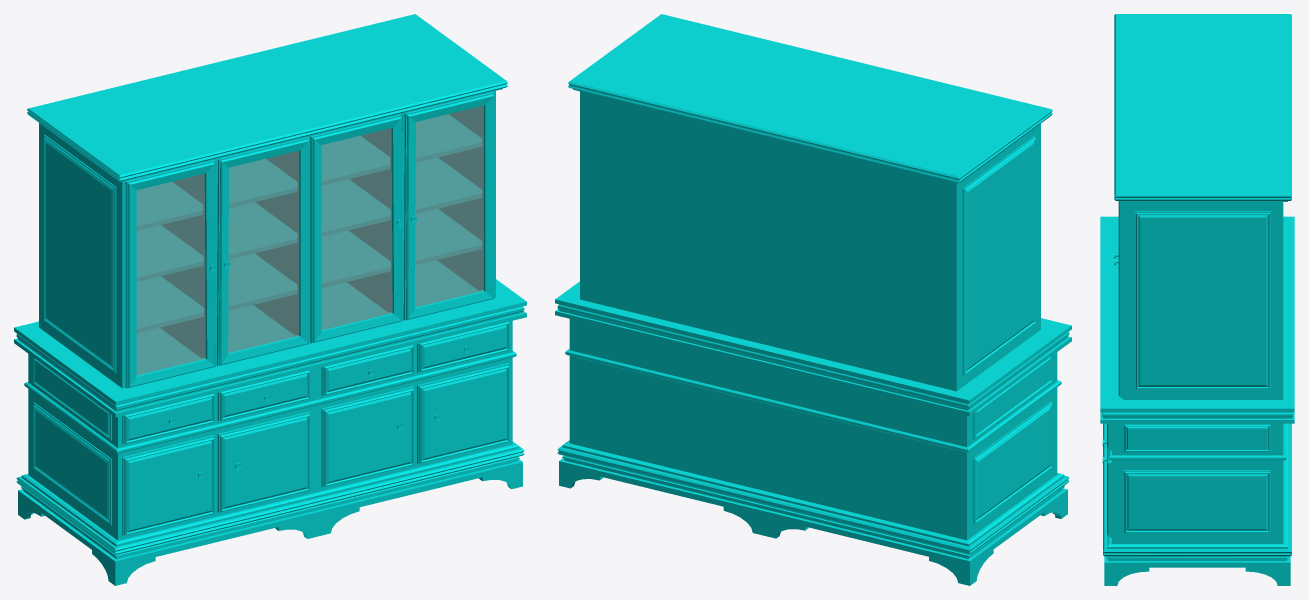
Rendered from cupboard.fbx.
3 renders of one model, left to right at view 1: azimuth 30°, elevation 25°; view 2: azimuth 150°, elevation 25°; view 3: azimuth 270°, elevation 25°, orthographic. The views are drawn at different scales.
Visible parts, largest first — view 1: cupboardBase, cupboardDoor2, cupboardDoor3, cupboardDoor4, cupboardDoor1; view 2: cupboardBase; view 3: cupboardBase, cupboardDoor4.
Part boxes in pixels (bbox=[...]): cupboardBase: bbox=[14, 14, 526, 585]; cupboardDoor2: bbox=[217, 137, 309, 366]; cupboardDoor3: bbox=[310, 114, 403, 343]; cupboardDoor4: bbox=[403, 92, 494, 320]; cupboardDoor1: bbox=[125, 160, 216, 388]; cupboardBase: bbox=[555, 14, 1071, 585]; cupboardBase: bbox=[1100, 14, 1294, 585]; cupboardDoor4: bbox=[1114, 202, 1123, 398].
Size of the model in its own units: 198 by 185 by 84.6.
